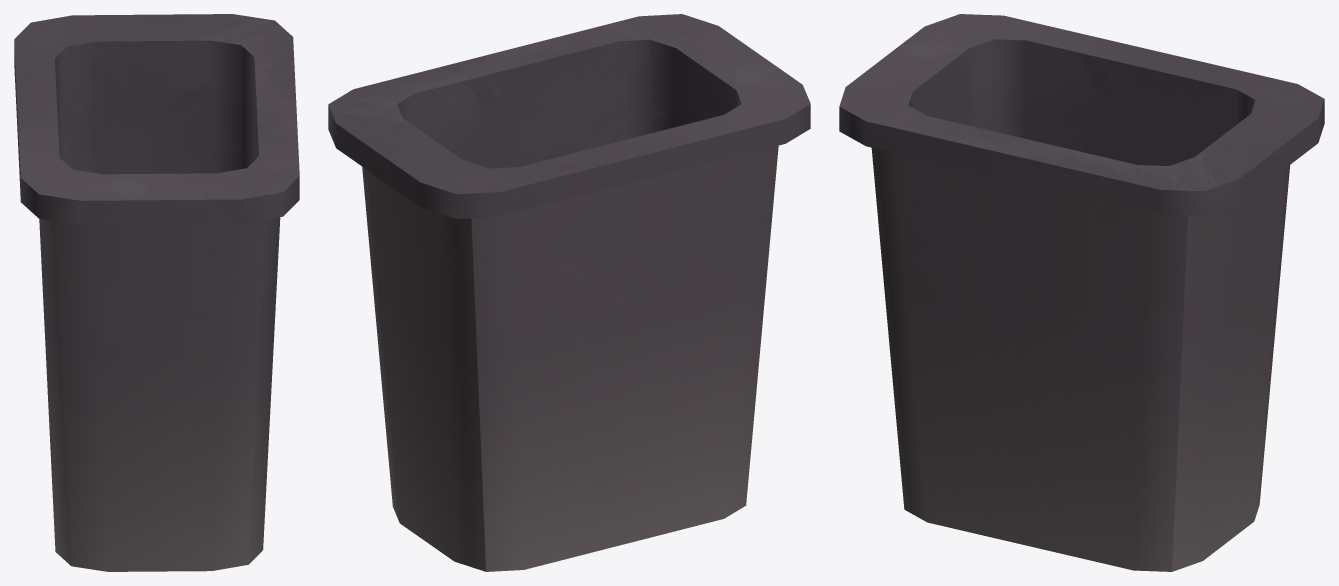
File: SM_Trashcan.fbx
3 renders of one model, left to right at view 1: azimuth 30°, elevation 25°; view 2: azimuth 150°, elevation 25°; view 3: azimuth 270°, elevation 25°, orthographic. The views are drawn at different scales.
Parts seen in each view (by area): view 1: SM_Trashcan; view 2: SM_Trashcan; view 3: SM_Trashcan.
Part boxes in pixels (left/top/right/bottom): SM_Trashcan: left=14, top=14, right=299, bottom=571; SM_Trashcan: left=328, top=14, right=810, bottom=571; SM_Trashcan: left=839, top=14, right=1324, bottom=571.
Bounding box in the file's own units: 95.04 × 101 × 110.
